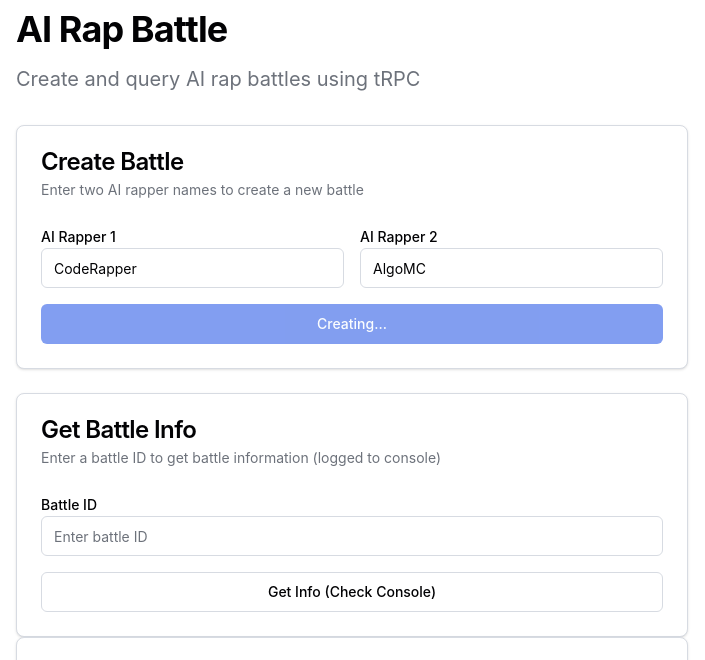
HomePage › validates battle ID input before fetching
Click the button "Get Info (Check Console)" at (352, 592), box [41, 572, 663, 612]
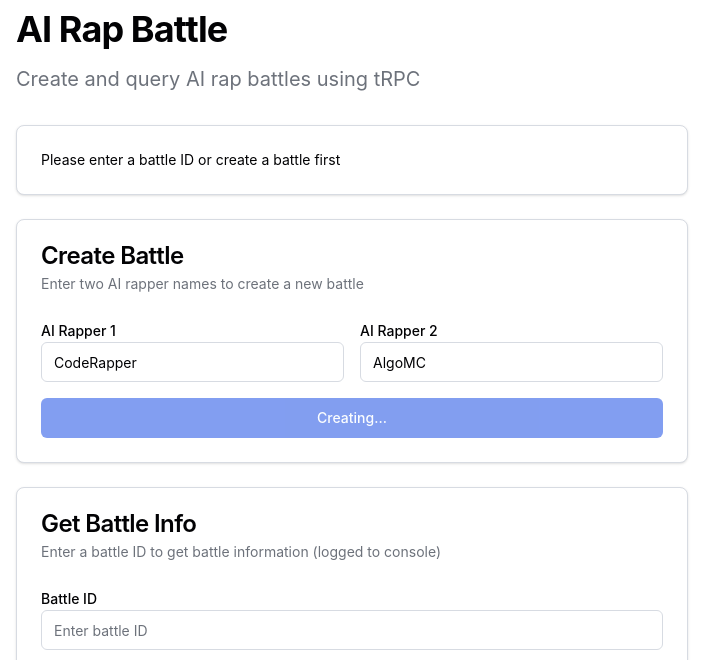
Check: the text "Please enter a battle ID or create a battle first" is shown, box [41, 151, 340, 168]
